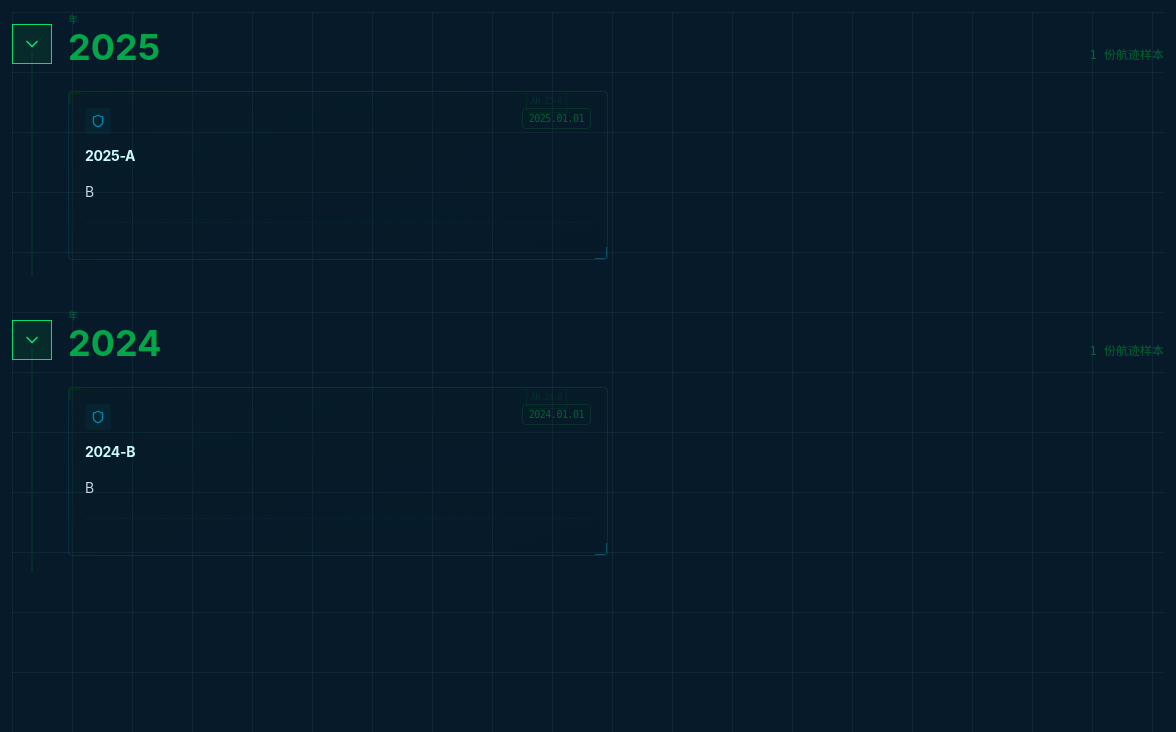
Test: ArchiveVaultEntries › clicking a group toggle collapses the bucket (aria-expanded flips)
The image size is (1176, 732).
Expected: the heading "2025-A" is shown, [85,147,135,164]
Click the button "年 2025 1 份航迹样本" at x=32, y=44, box [12,12,1164,75]
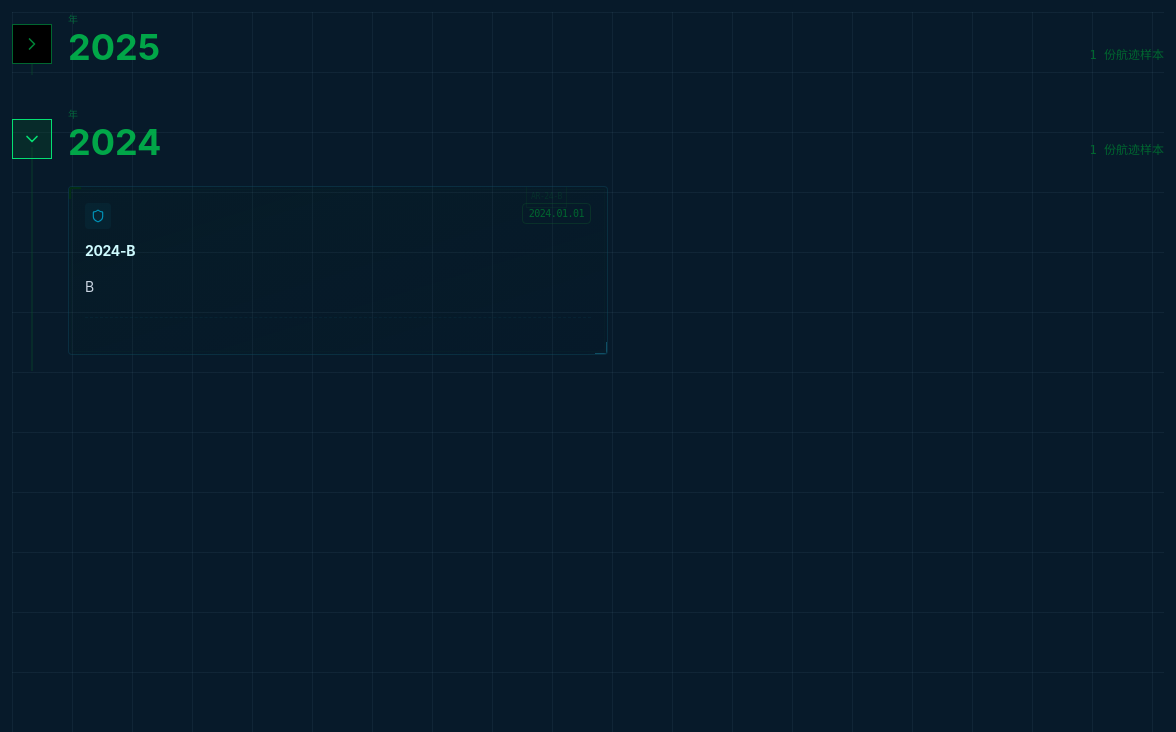
Expected: the button "年 2025 1 份航迹样本" is collapsed, [12,12,1164,75]
